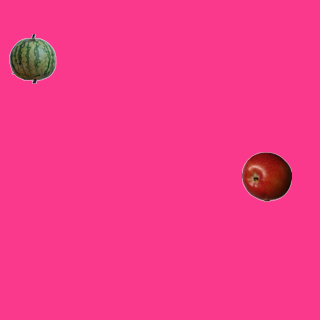Apple Braeburn: (241, 151, 291, 201)
Watermelon: (7, 33, 57, 83)
